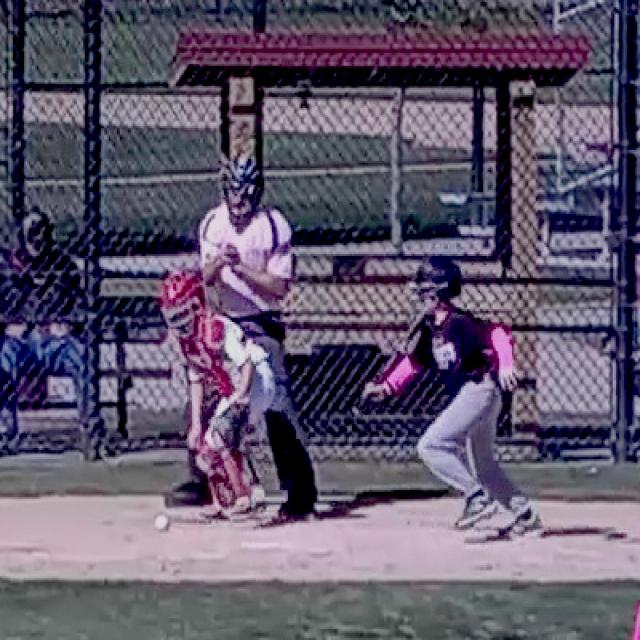baseball: (154, 516, 168, 530)
